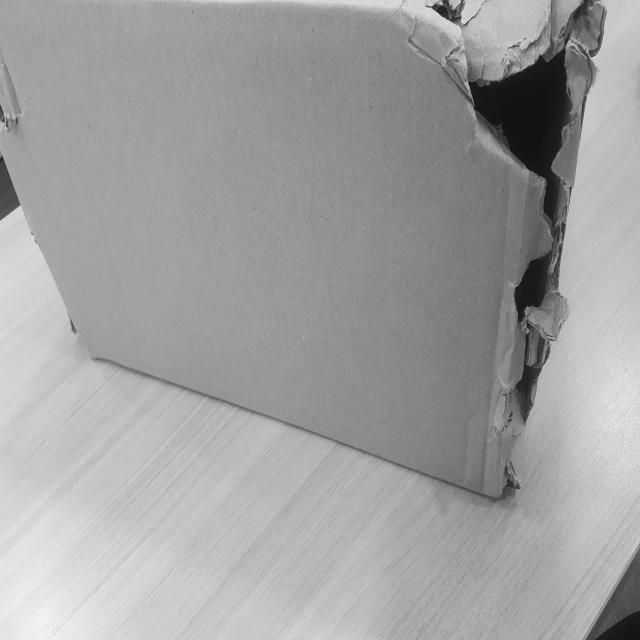hole: (468, 12, 586, 414)
